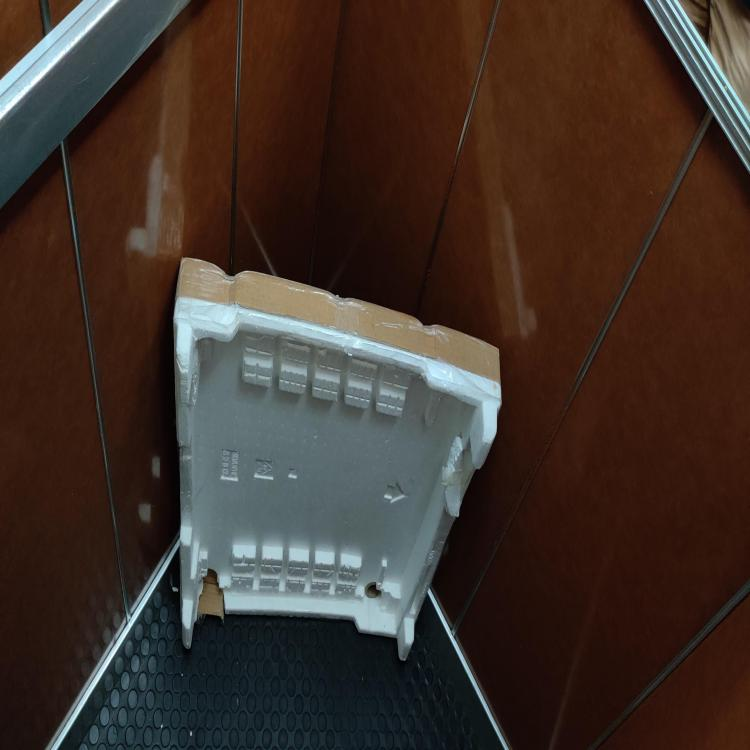Corrugated carton: (175, 260, 501, 384), (198, 570, 224, 621)
Styrofoam piece: (174, 298, 502, 661)
